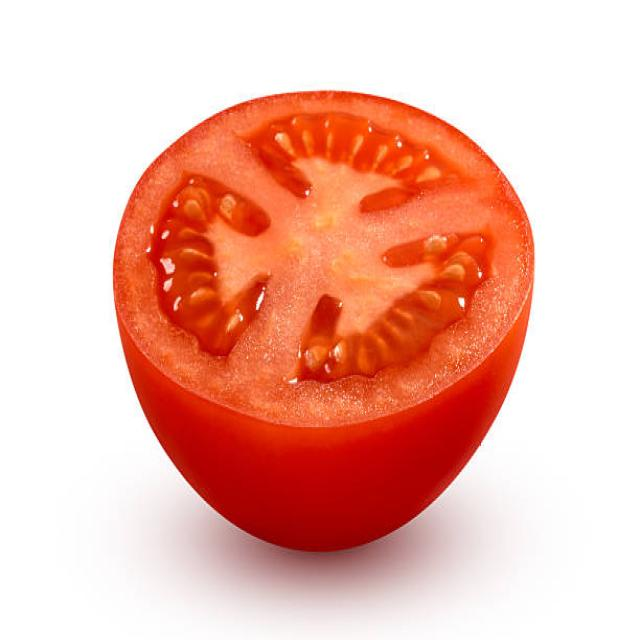Tomato: (119, 62, 538, 590)
